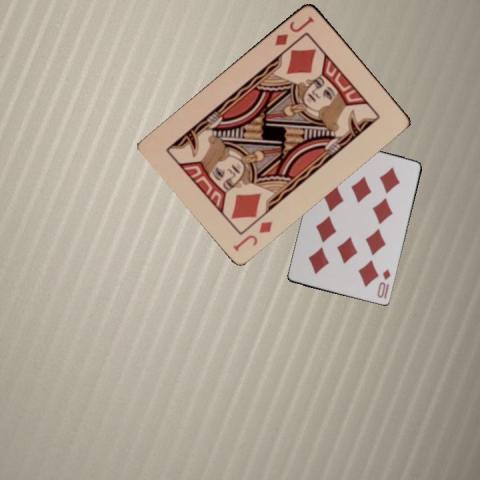10d: (374, 267, 392, 299)
Jd: (230, 216, 275, 252), (271, 13, 316, 47)
